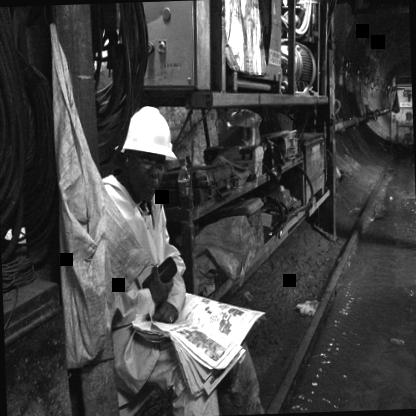helmet: (118, 102, 177, 204)
